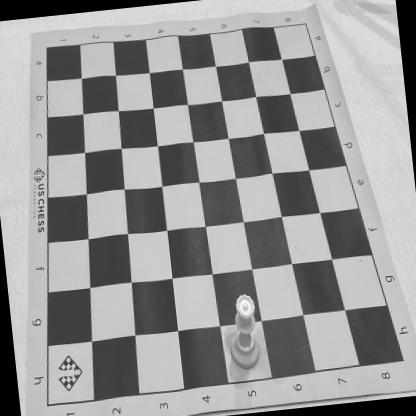queen: (224, 292, 262, 371)
